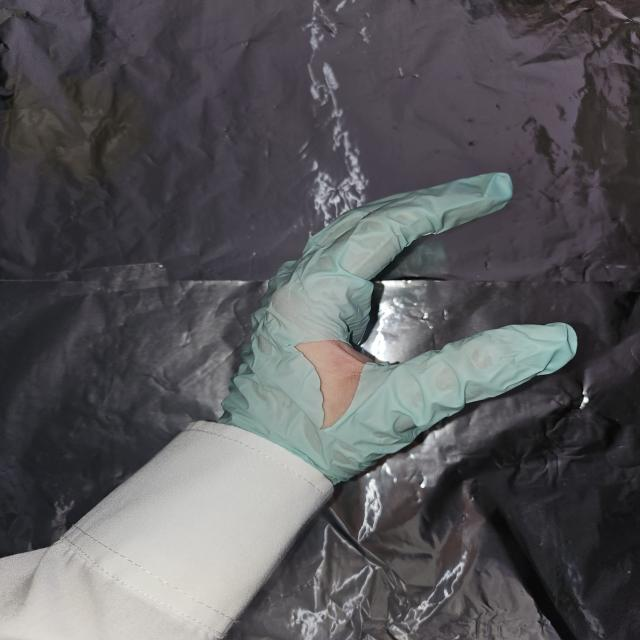gloves_damaged: (215, 172, 578, 486)
